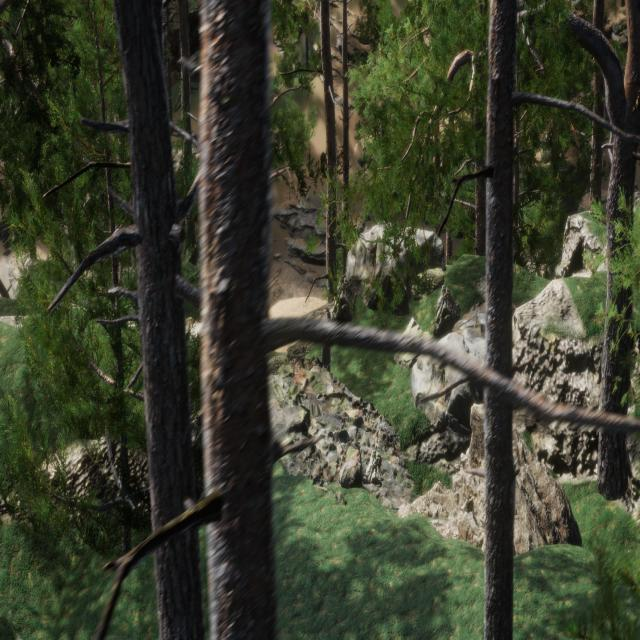Human: (318, 310, 334, 380)
